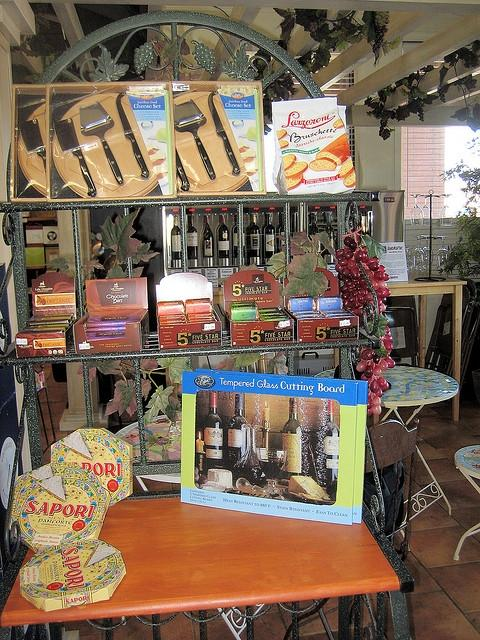grape: (191, 40, 216, 74), (280, 74, 296, 95), (357, 360, 368, 372), (364, 365, 374, 378), (383, 358, 396, 368), (378, 288, 391, 298), (370, 379, 379, 393), (370, 404, 382, 414), (364, 348, 374, 360), (354, 251, 365, 261), (374, 270, 385, 280), (343, 237, 354, 247), (368, 262, 380, 271), (373, 265, 386, 273), (374, 288, 384, 298), (363, 292, 373, 302), (344, 250, 354, 260), (378, 376, 386, 388), (347, 260, 356, 270), (350, 265, 360, 274), (383, 334, 393, 343), (379, 360, 388, 370), (365, 269, 373, 280), (368, 396, 374, 410), (384, 342, 393, 351), (373, 396, 381, 406), (378, 302, 386, 312), (374, 366, 382, 376), (342, 291, 350, 300), (373, 354, 380, 364), (361, 252, 368, 262), (339, 259, 349, 266), (366, 258, 374, 266), (343, 267, 350, 276), (343, 298, 350, 307), (362, 246, 368, 254), (343, 278, 350, 284), (356, 283, 361, 291), (358, 299, 366, 304), (362, 284, 368, 290), (385, 318, 389, 327), (370, 360, 374, 368), (351, 282, 356, 288), (143, 57, 148, 62), (358, 306, 363, 310), (381, 40, 384, 42), (418, 114, 421, 116), (440, 93, 442, 96), (380, 120, 382, 122)
